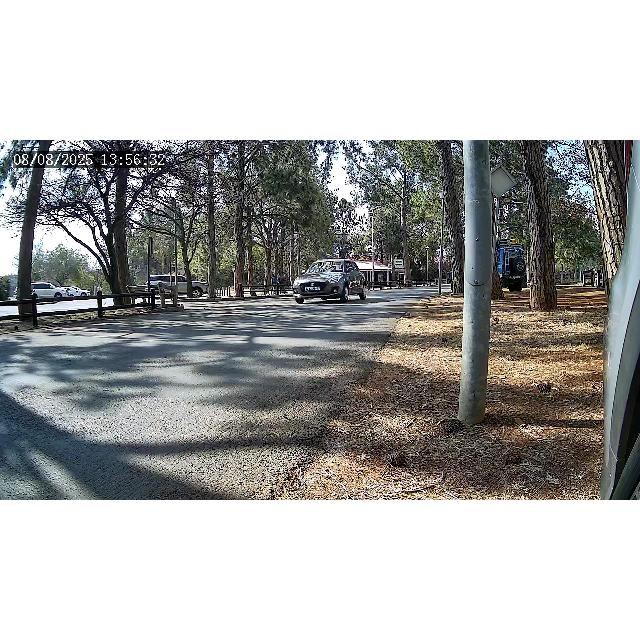car: (294, 258, 366, 304), (144, 272, 210, 300)
plate: (304, 287, 322, 291)
